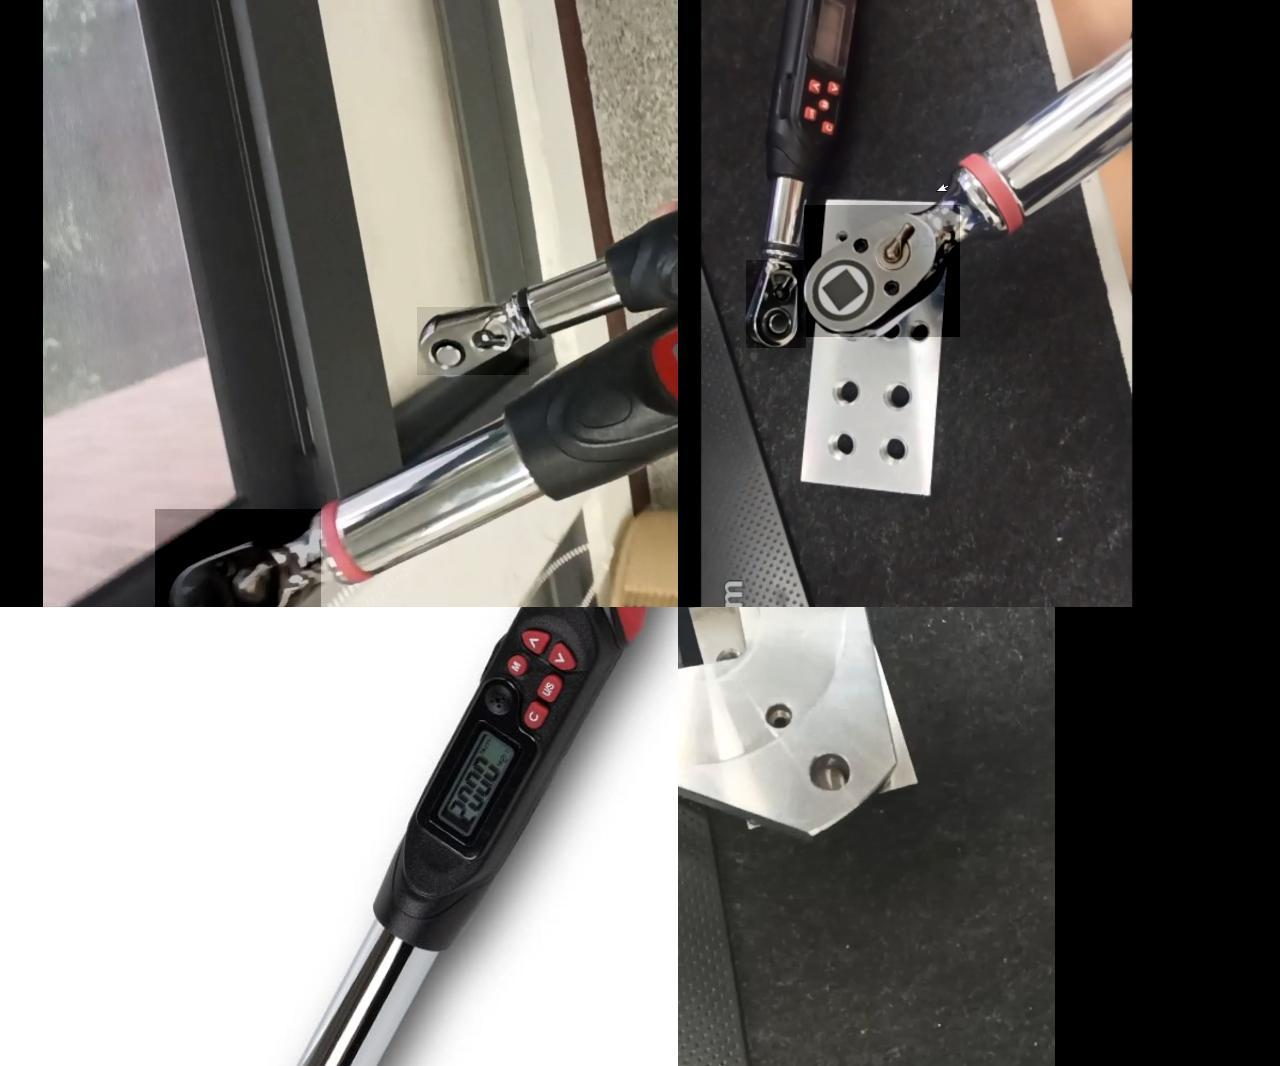Tool: (803, 205, 959, 337), (154, 509, 320, 607), (416, 307, 528, 375), (745, 260, 805, 348)
